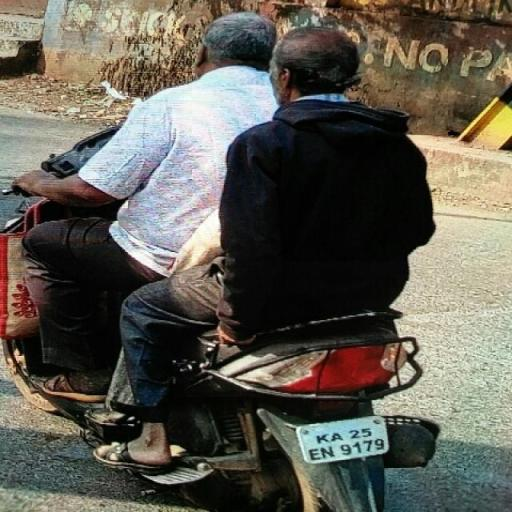bike: (2, 6, 442, 512)
numberplate: (298, 416, 394, 466)
withouthelmet: (276, 27, 358, 98), (208, 13, 274, 70)
